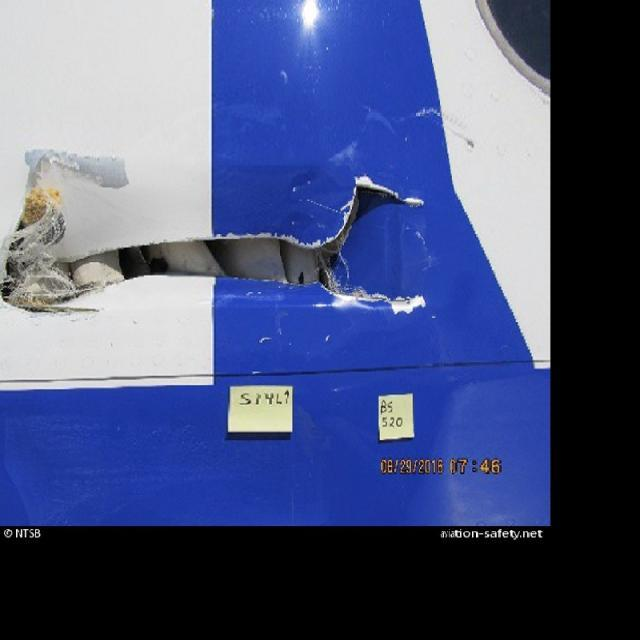crack: (342, 275, 409, 327)
